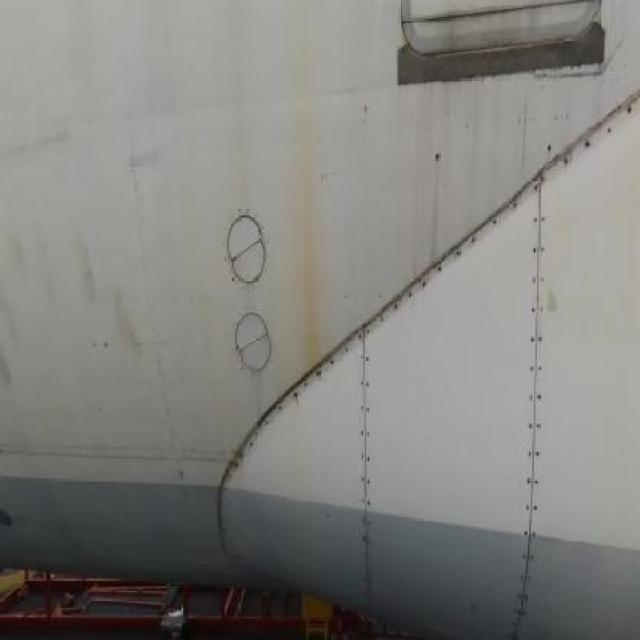Missing-Rivet: (376, 195, 519, 318), (518, 151, 552, 617), (257, 341, 351, 436), (349, 308, 376, 580), (554, 101, 640, 177)
Rust: (284, 84, 342, 384)
Scartch: (1, 205, 164, 404), (0, 113, 92, 190), (114, 120, 178, 217)
